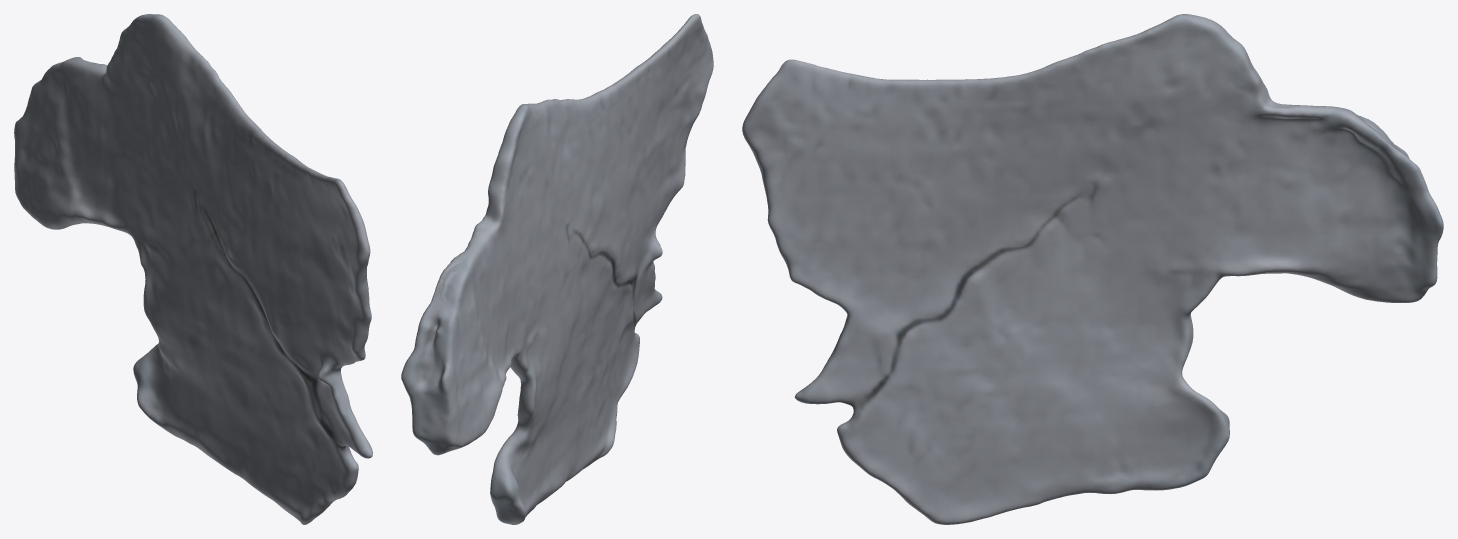
Rendered from c4473838a185_ice_crack_white__3d.fbx.
3 renders of one model, left to right at view 1: azimuth 30°, elevation 25°; view 2: azimuth 150°, elevation 25°; view 3: azimuth 270°, elevation 25°, orthographic. The views are drawn at different scales.
Parts seen in each view (by area): view 1: high_poly; view 2: high_poly; view 3: high_poly.
Part boxes in pixels (x1,y1,x2,y2): high_poly: [14, 14, 372, 524]; high_poly: [401, 14, 713, 524]; high_poly: [742, 14, 1443, 524].
Bounding box in the file's own units: 16.02 × 77.02 × 100.
